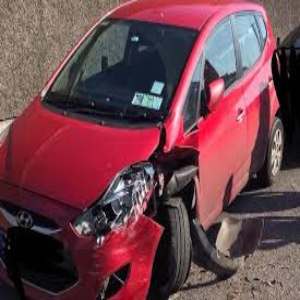bumper: (48, 219, 165, 299)
